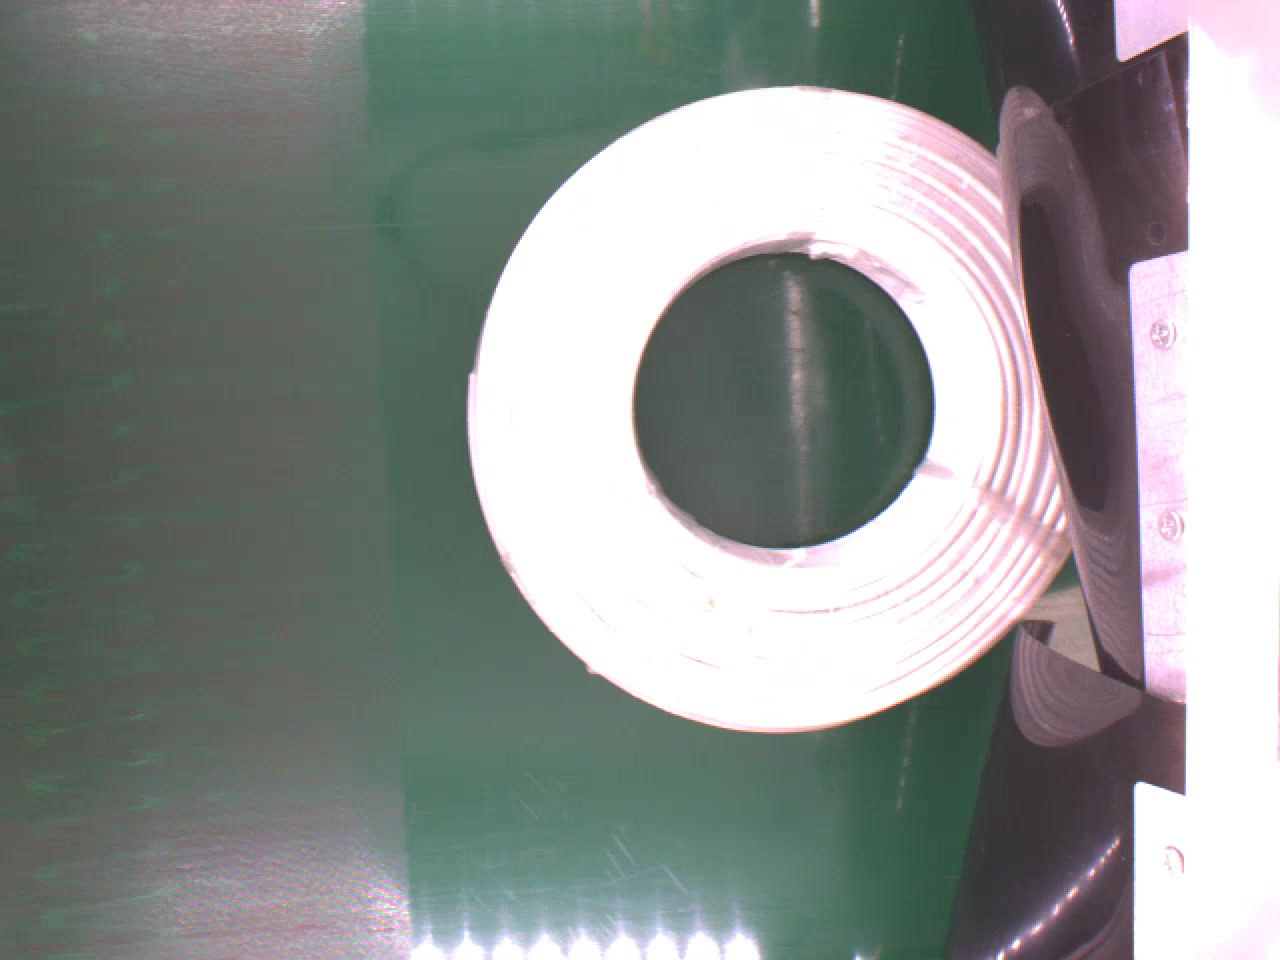white: (466, 76, 1084, 741)
